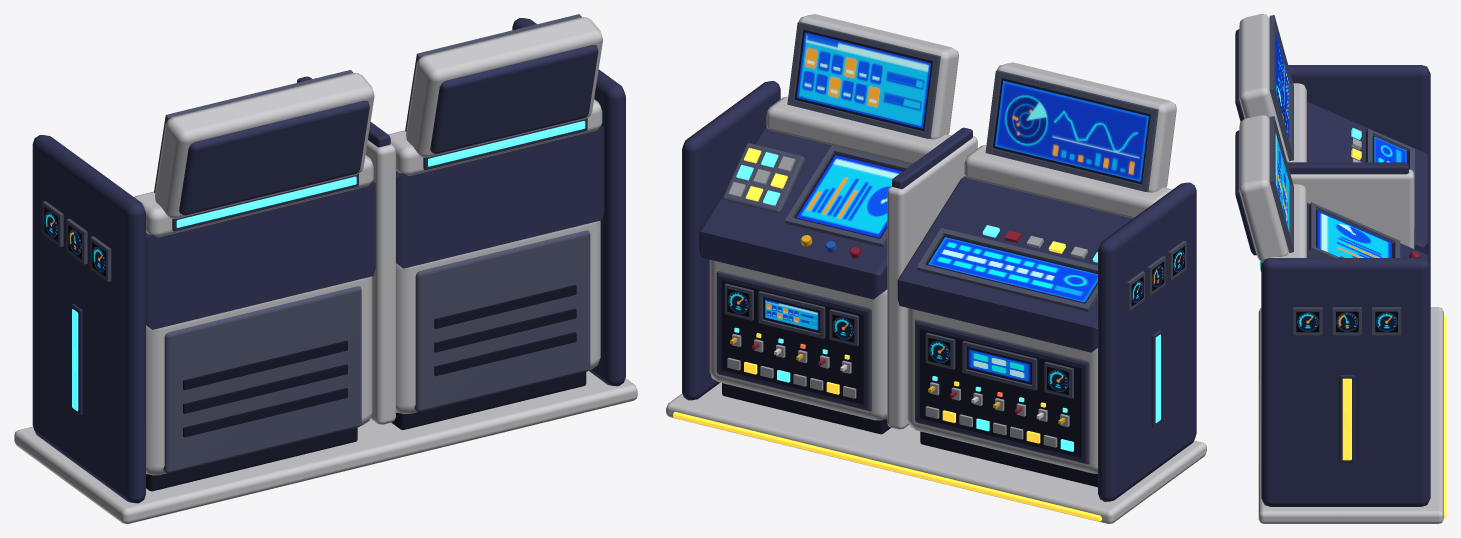
File: prop.props_bridge.wall_console.glb
3 views of the same model, side by side, from view 1: azimuth 30°, elevation 25°; view 2: azimuth 150°, elevation 25°; view 3: azimuth 270°, elevation 25° (orthographic). The views are drawn at different scales.
Visible parts, largest first — view 1: prop.props_bridge.wall_console; view 2: prop.props_bridge.wall_console; view 3: prop.props_bridge.wall_console.
Boxes of the visible parts, x1,y1,x2,y2 form: prop.props_bridge.wall_console: (14, 14, 637, 523); prop.props_bridge.wall_console: (666, 14, 1206, 523); prop.props_bridge.wall_console: (1235, 14, 1446, 523).
Bounding box in the file's own units: 1.83 × 1.34 × 0.7867.
Materials: 21 (7 with a texture image).
